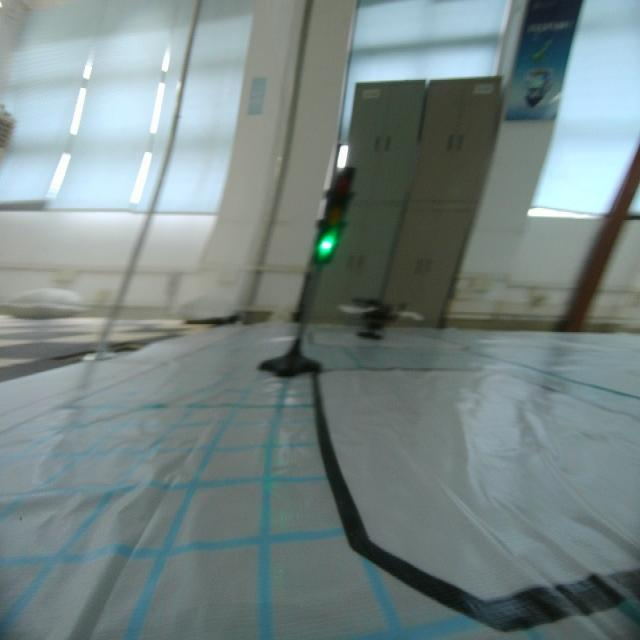green: (316, 168, 349, 271)
